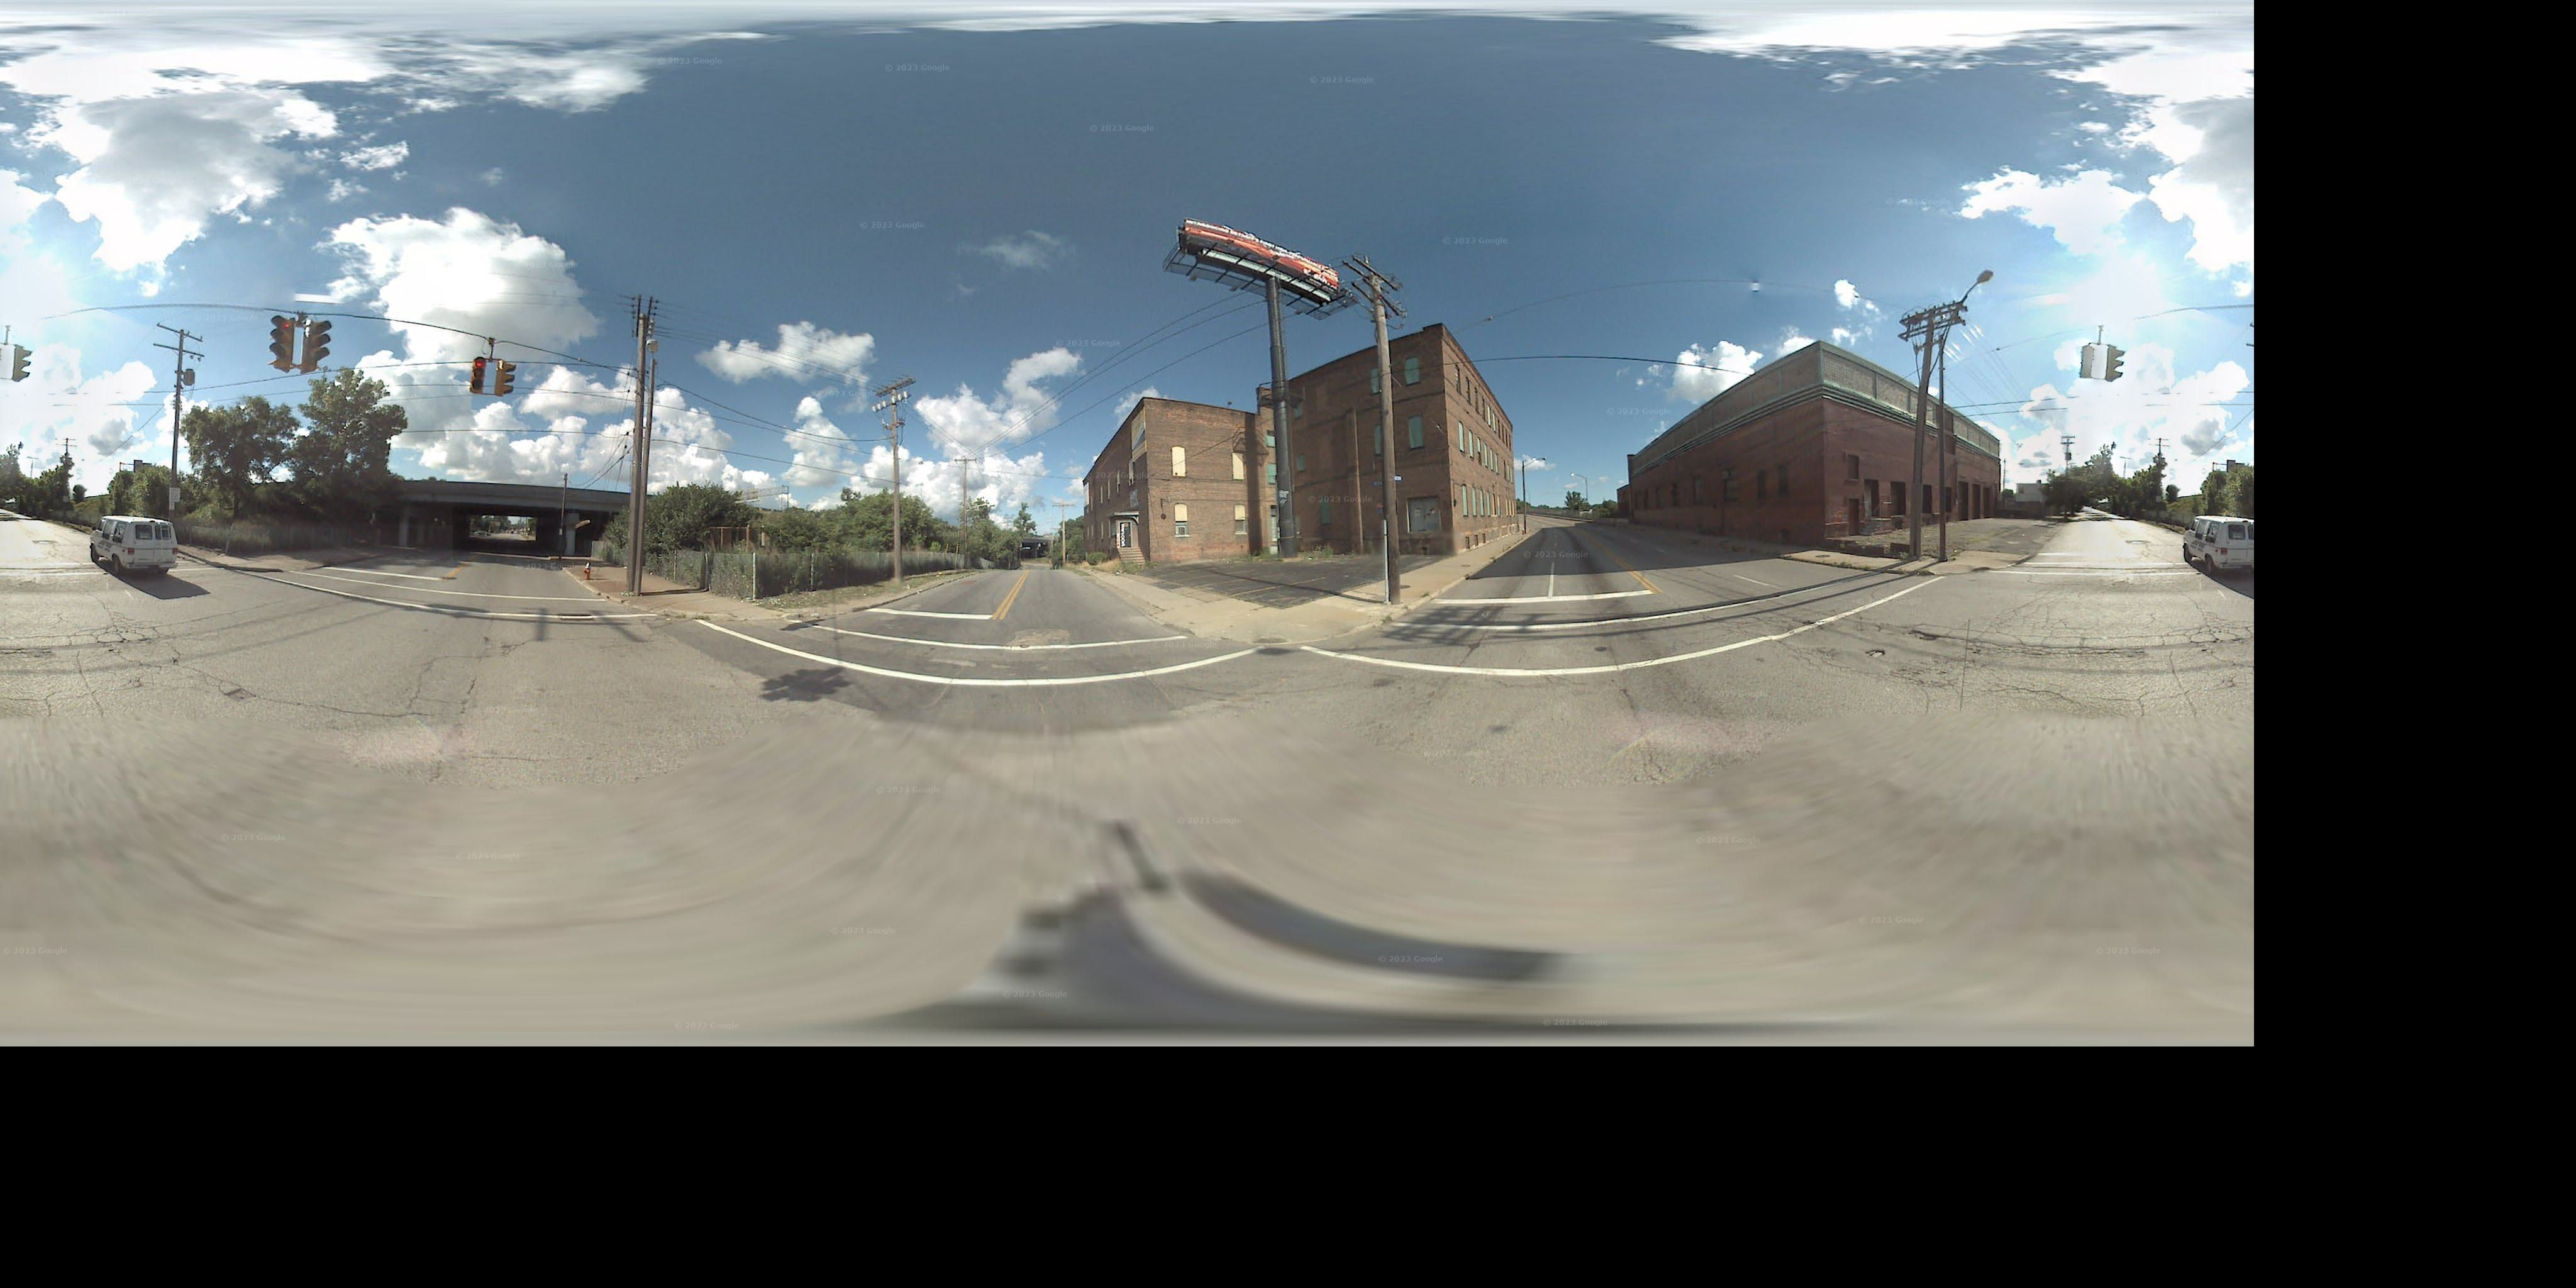Curb Ramp: (1272, 614, 1385, 655), (1186, 605, 1263, 657), (706, 600, 787, 641), (1973, 547, 2019, 583)
Irregular Ramp: (601, 585, 670, 623)
Missing Curb Ramp: (1876, 552, 1927, 593), (225, 559, 297, 585)
